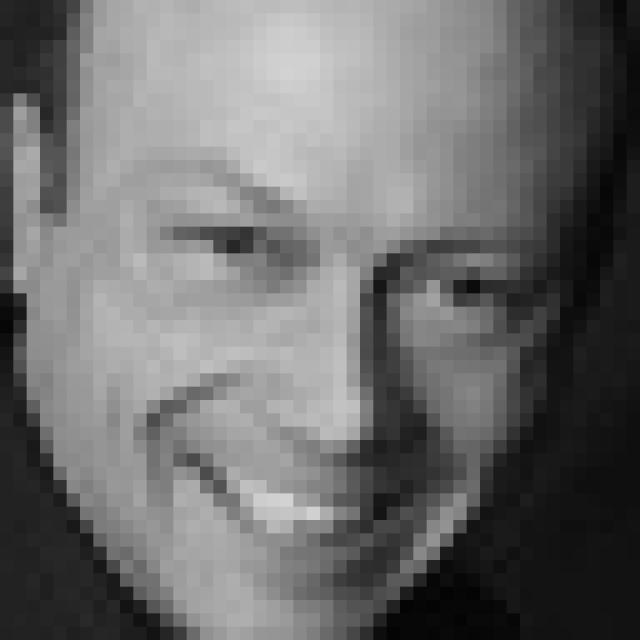happy: (120, 149, 534, 593)
